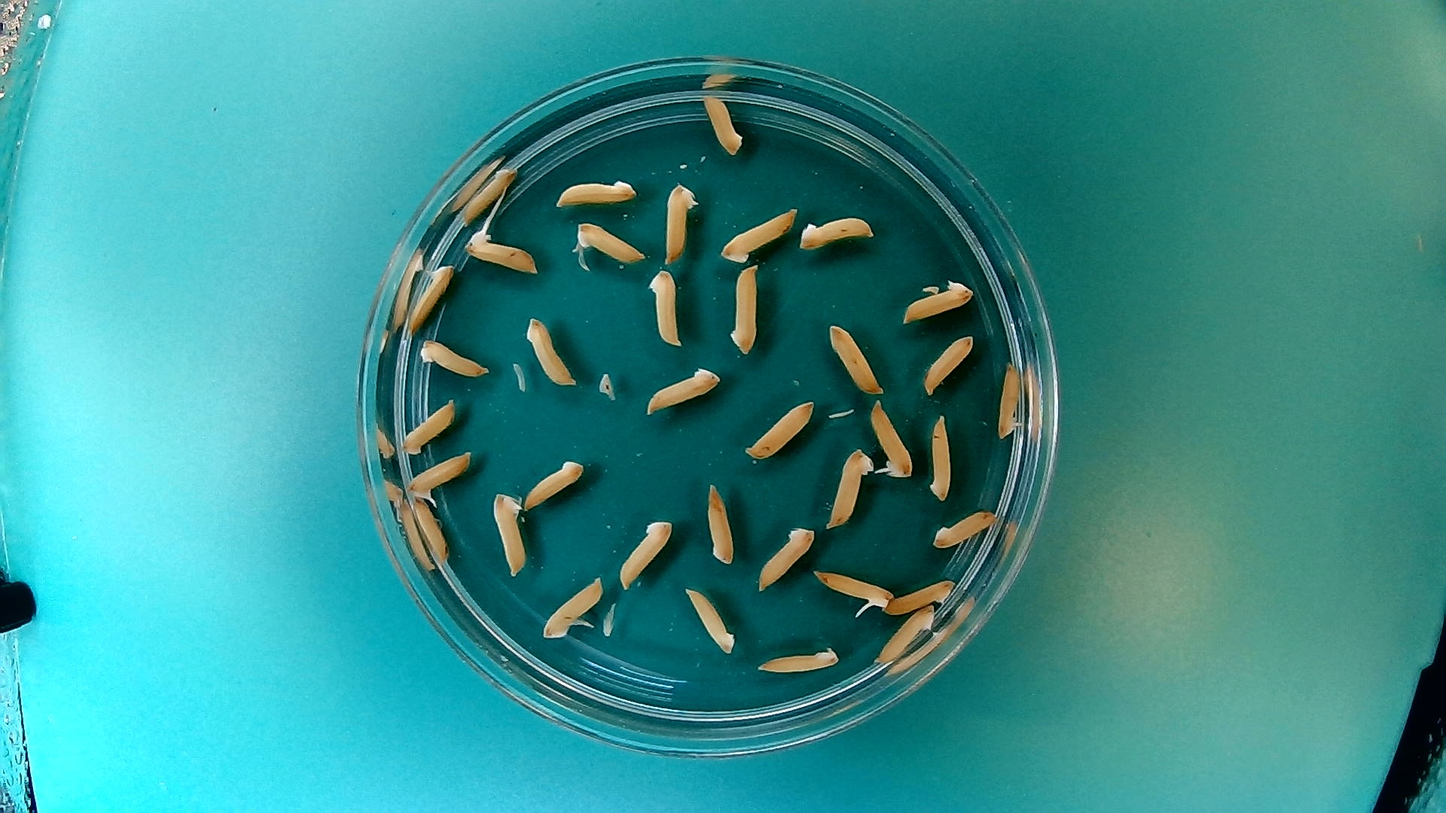no: (715, 204, 800, 266), (743, 397, 816, 462), (825, 318, 885, 397), (639, 361, 723, 417), (617, 514, 676, 592), (522, 311, 578, 389), (755, 522, 816, 593), (824, 444, 874, 530), (872, 604, 938, 665), (405, 258, 455, 337), (685, 584, 739, 657), (457, 161, 520, 223), (898, 276, 978, 323), (521, 455, 588, 511), (398, 397, 459, 458), (569, 218, 648, 264), (920, 330, 975, 396), (415, 333, 492, 380), (405, 492, 453, 566), (491, 487, 529, 580), (754, 639, 844, 676), (726, 264, 761, 358), (797, 210, 877, 251), (646, 265, 684, 349), (552, 172, 640, 208), (699, 89, 744, 159), (929, 507, 1000, 550), (883, 576, 957, 615), (926, 413, 957, 506), (706, 480, 737, 567), (995, 358, 1023, 441)
yes: (810, 567, 895, 617), (404, 447, 475, 506), (869, 397, 916, 481), (544, 574, 606, 635), (462, 227, 537, 276), (661, 178, 700, 265)
